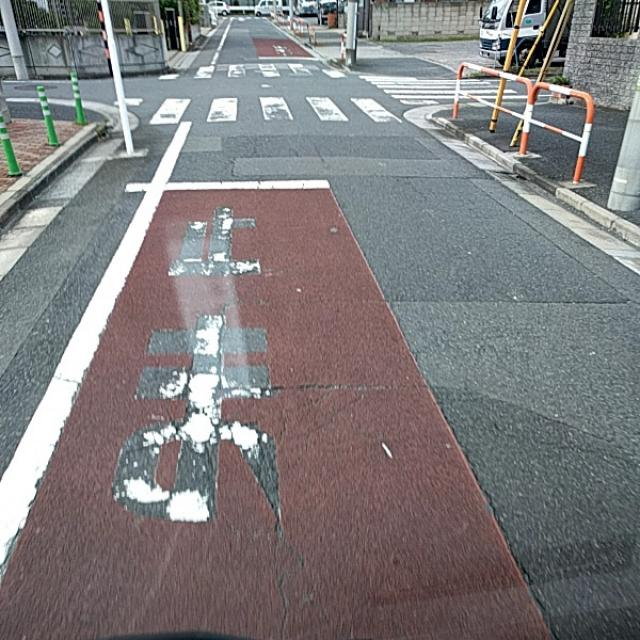pothole: (162, 344, 252, 486)
